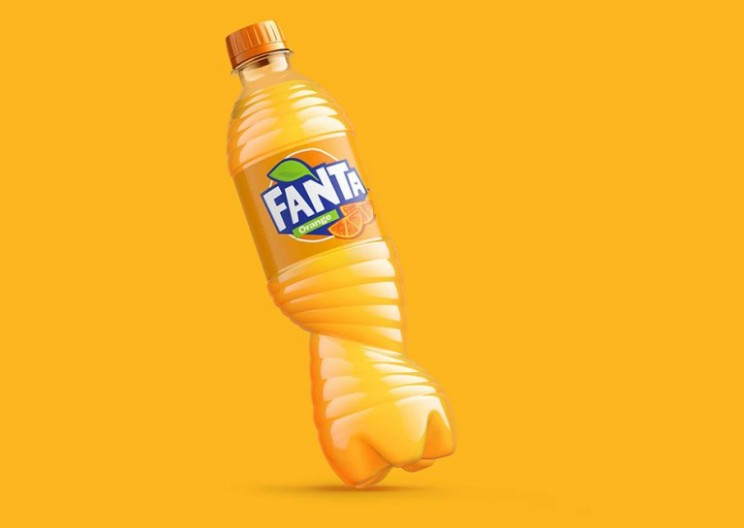Fanta: (210, 28, 452, 482)
